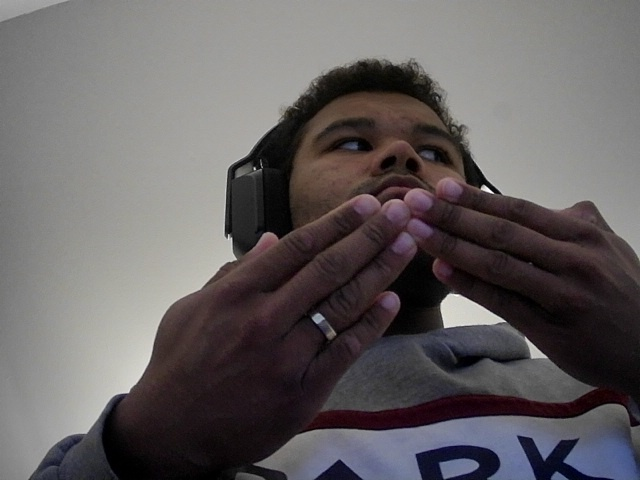ThankYou: (69, 176, 640, 458)
